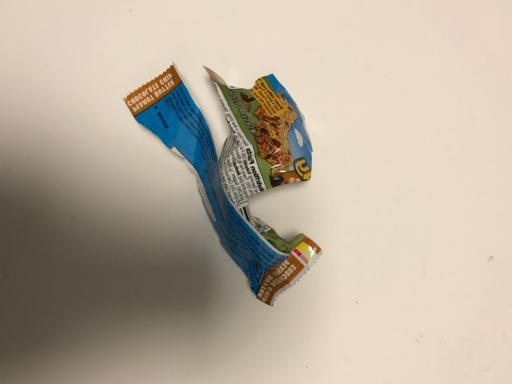trash: (121, 63, 324, 307)
